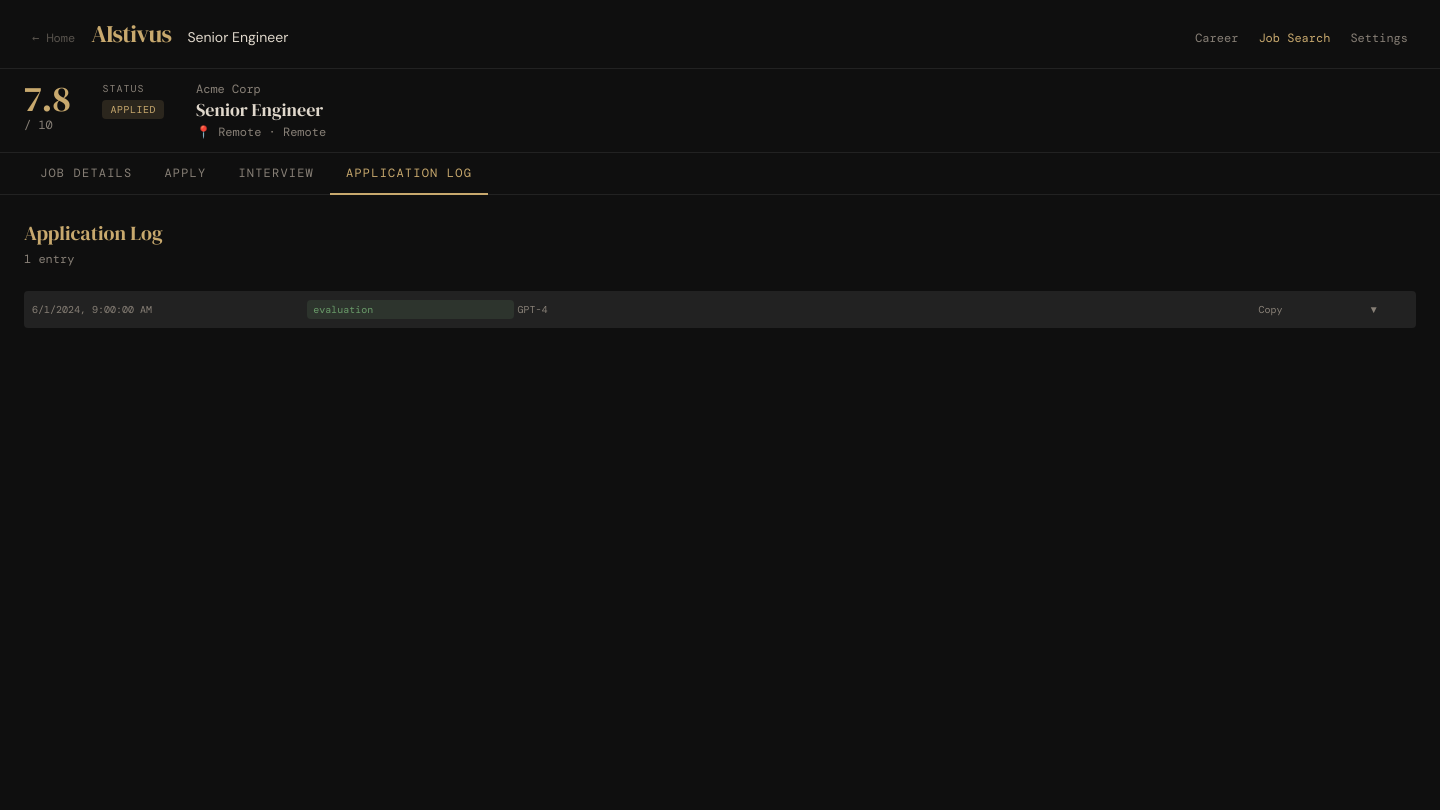
Test: JobDetailPage workspace › APPLICATION LOG ActivityLogRow › C7: expanded evaluation entry shows structured eval card when eval_data present
This screenshot has width=1440, height=810.
Click the text "GPT-4" at [533, 309], box [518, 302, 548, 316]
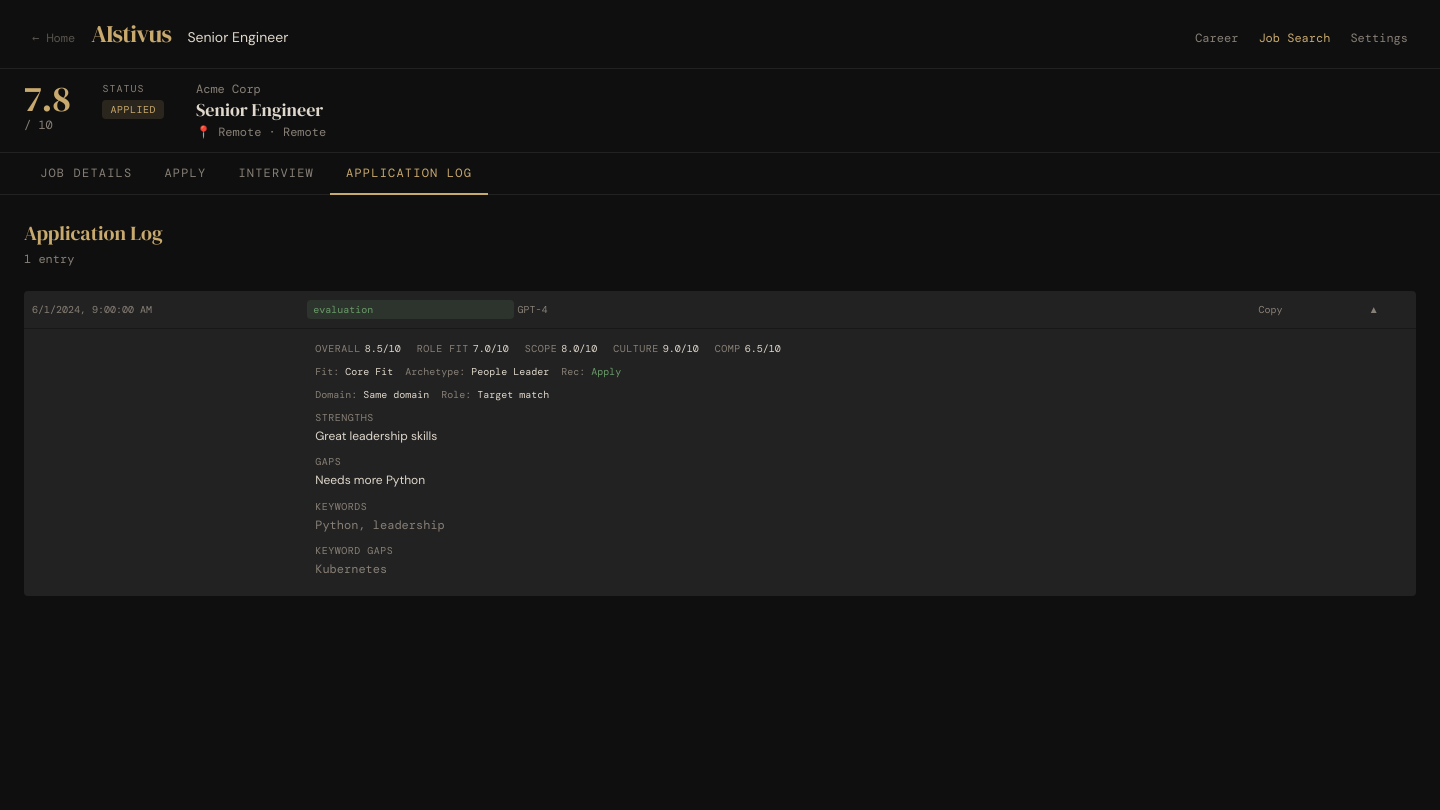
Expected: the text "Strengths" is shown, [315, 410, 374, 424]
Expected: the text "Great leadership skills" is shown, [315, 428, 437, 444]
Expected: the text "Gaps" is shown, [315, 455, 341, 468]
